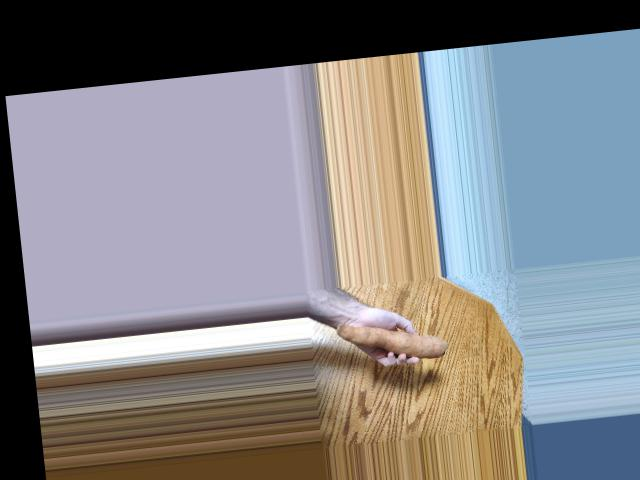sweet_potato: (342, 318, 443, 370)
